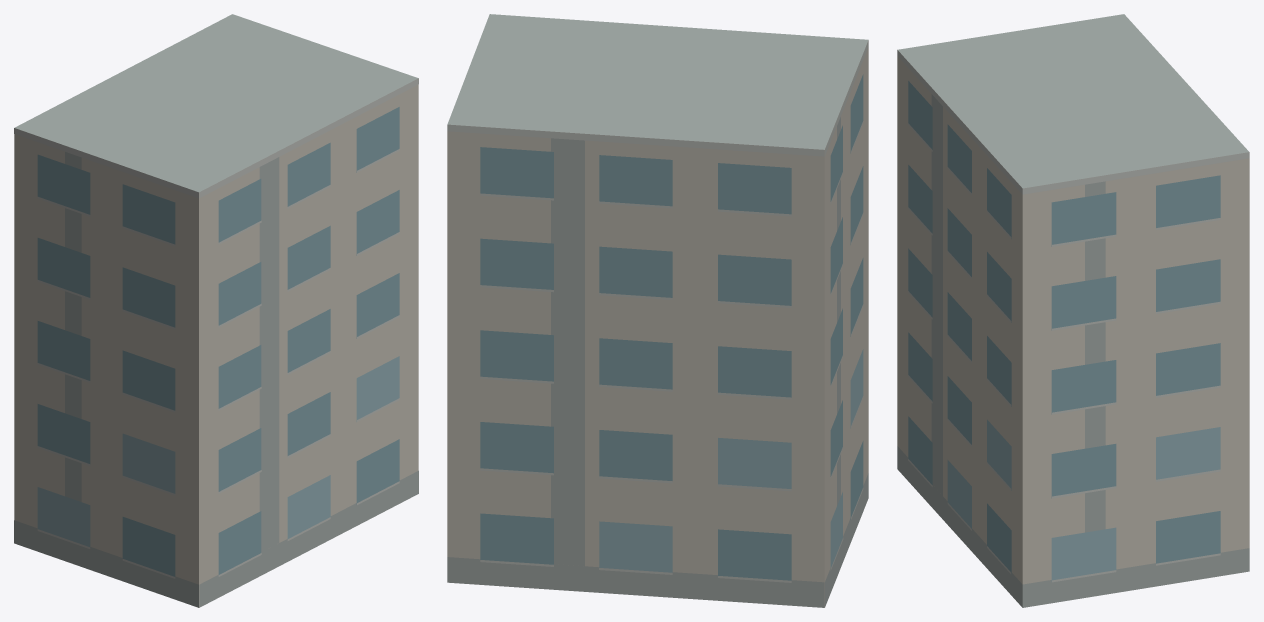
The model's file is survey-upis-32845010.glb.
3 views of the same model, side by side, from view 1: azimuth 30°, elevation 25°; view 2: azimuth 150°, elevation 25°; view 3: azimuth 270°, elevation 25° (orthographic). The views are drawn at different scales.
Visible parts, largest first — view 1: survey-upis-32845010.tmp; view 2: survey-upis-32845010.tmp; view 3: survey-upis-32845010.tmp.
Part boxes in pixels (<box>): survey-upis-32845010.tmp: <box>14,14,418,607</box>; survey-upis-32845010.tmp: <box>447,14,868,607</box>; survey-upis-32845010.tmp: <box>897,14,1249,607</box>.
Bounding box in the file's own units: 14.73 × 16.5 × 12.56.
